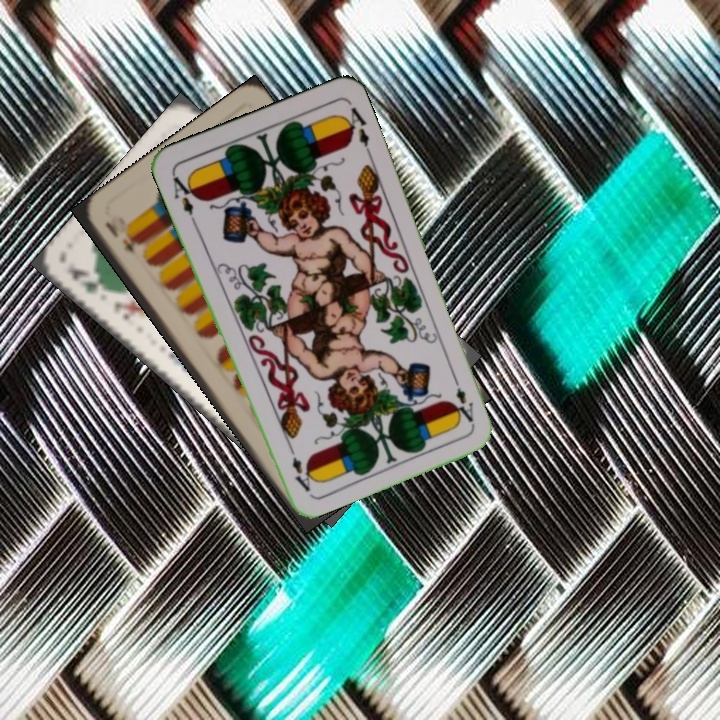E10: (101, 217, 139, 258)
EA: (168, 169, 199, 226), (451, 383, 477, 427)
GK: (64, 262, 114, 297)
